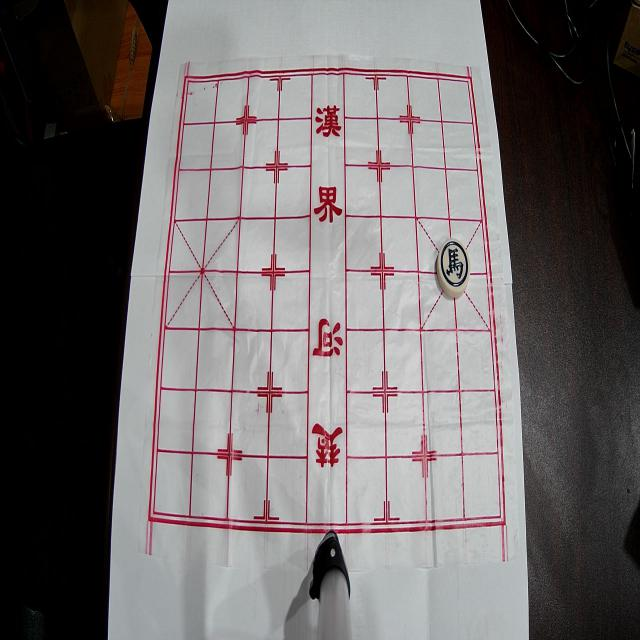black-horse: (436, 238, 471, 298)
